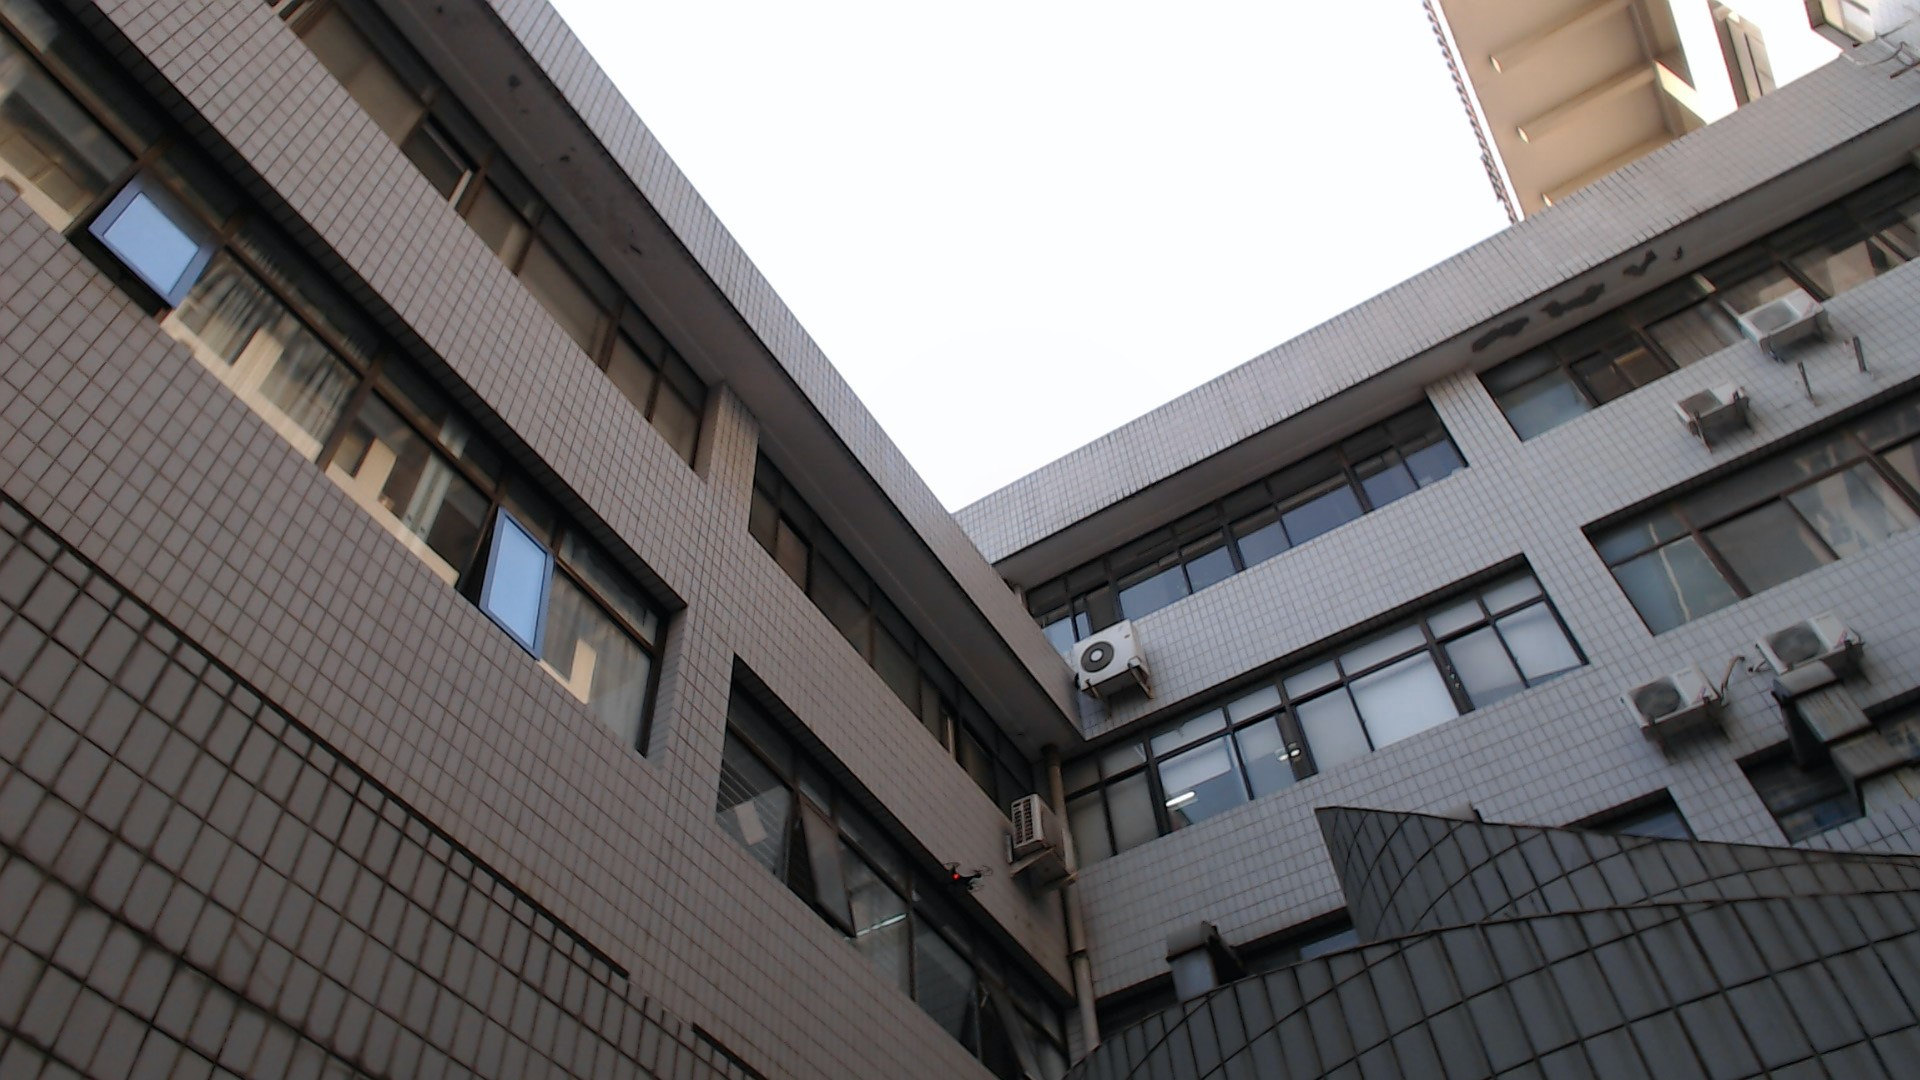drone: (911, 836, 1005, 911)
